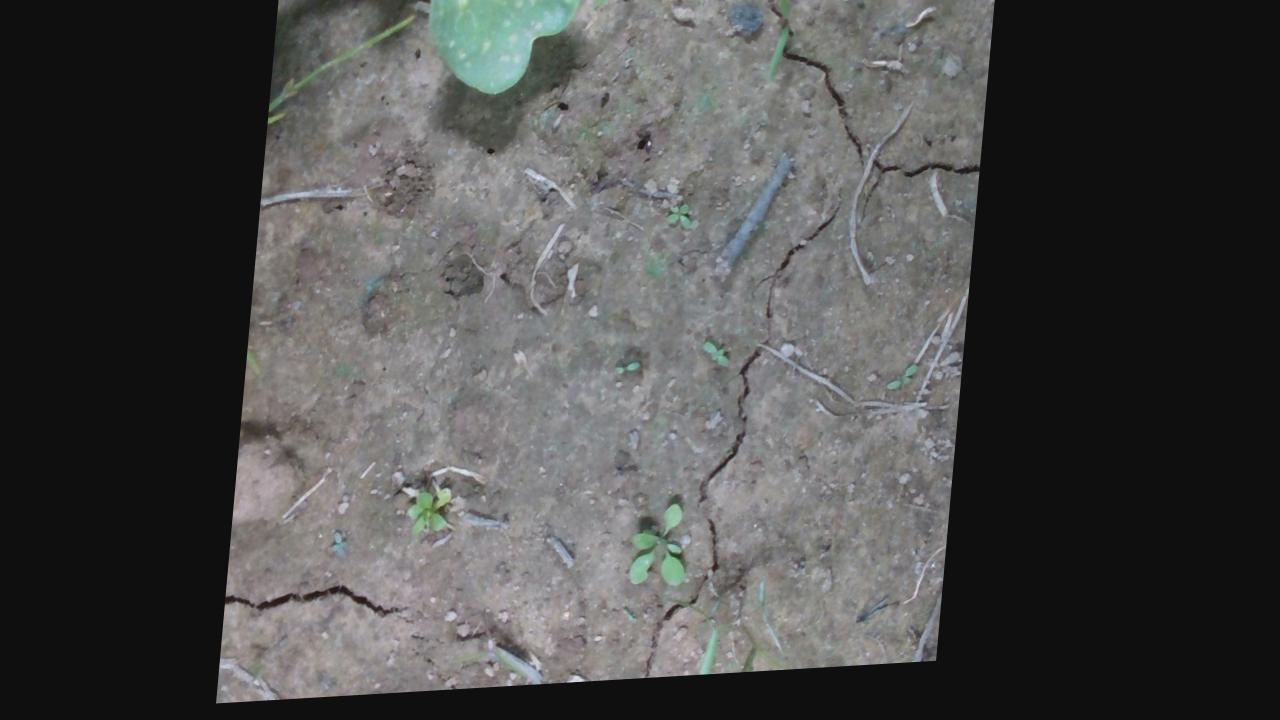weed: (705, 346, 740, 386)
